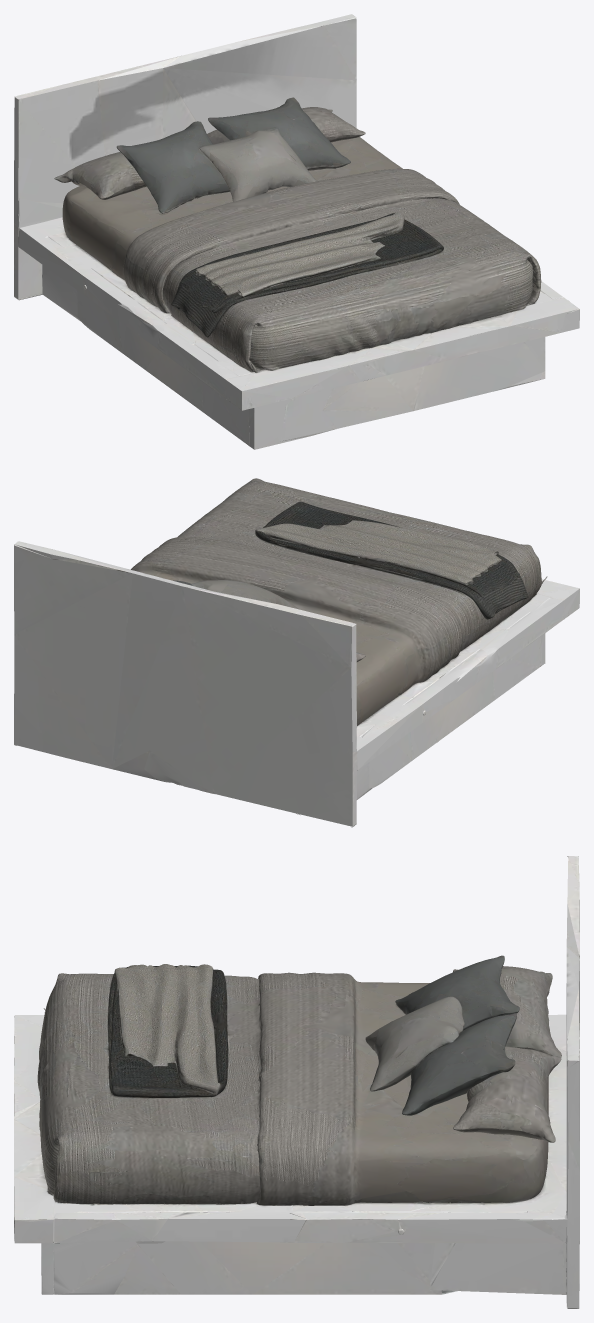
The model's file is homedepot-com-p-coaster-jessica-white-wood-frame-king-panel--84ab82.glb.
3 renders of one model, top to bottom at view 1: azimuth 30°, elevation 25°; view 2: azimuth 150°, elevation 25°; view 3: azimuth 270°, elevation 25°, orthographic. The views are drawn at different scales.
Visible parts, largest first — view 1: Mesh_0; view 2: Mesh_0; view 3: Mesh_0.
Boxes of the visible parts, x1=… form: Mesh_0: x1=14, y1=14, x2=579, y2=449; Mesh_0: x1=14, y1=478, x2=579, y2=827; Mesh_0: x1=14, y1=856, x2=579, y2=1308.
Size of the model in its own units: 1.64 by 0.9237 by 1.9.
Materials: 1 (1 with a texture image).
